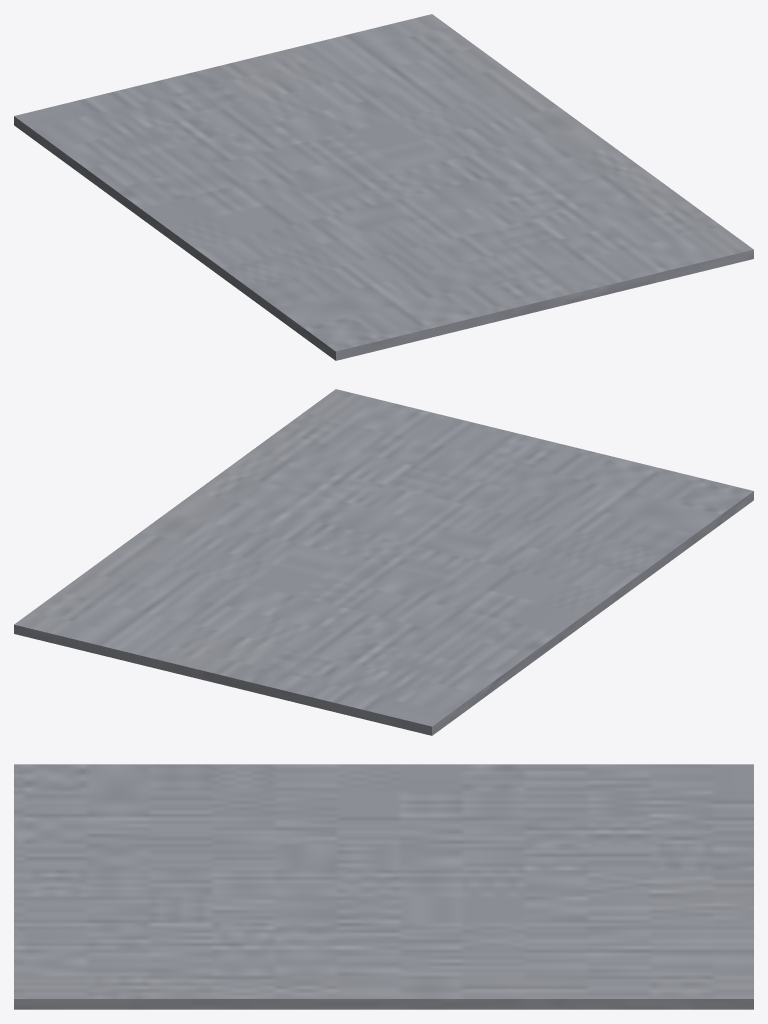
Rendered from silver.fbx.
3 renders of one model, top to bottom at view 1: azimuth 30°, elevation 25°; view 2: azimuth 150°, elevation 25°; view 3: azimuth 270°, elevation 25°, orthographic. The views are drawn at different scales.
Visible parts, largest first — view 1: silver1; view 2: silver1; view 3: silver1.
Part boxes in pixels (bbox=[...]): silver1: bbox=[14, 14, 753, 360]; silver1: bbox=[14, 389, 753, 735]; silver1: bbox=[14, 764, 753, 1009].
Size of the model in its own units: 75 by 1.59 by 100.
Materials: 1 (1 with a texture image).
